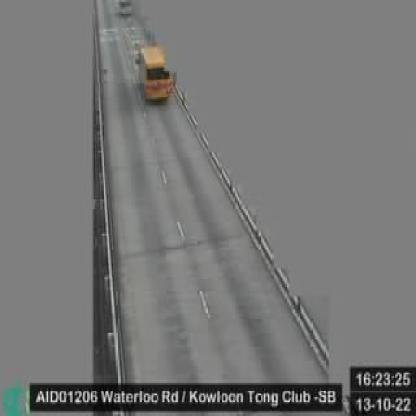Bus: (139, 45, 172, 104)
